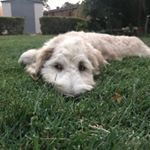puppy: (15, 26, 150, 100)
